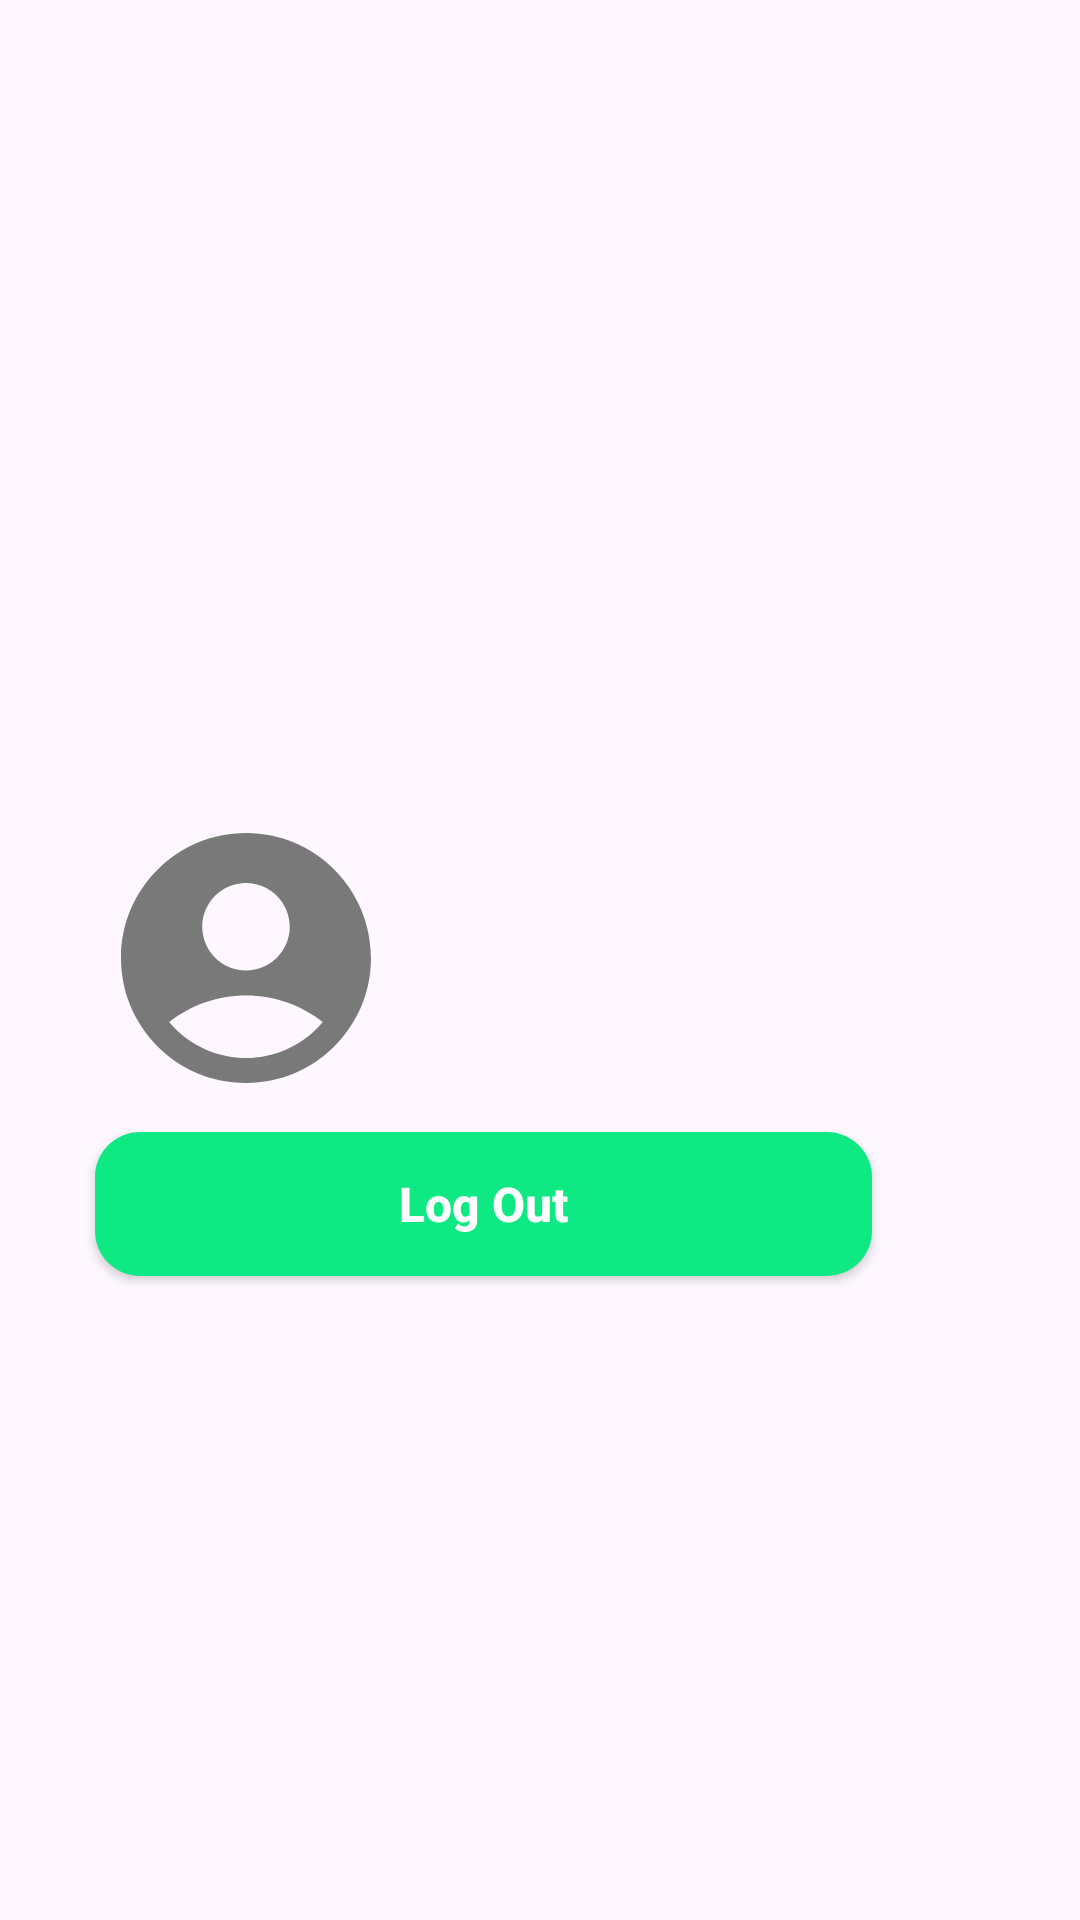

Screen size 1080*1920. Icon name, then its center in pixels as point (x, y):
account: point (246, 958)
